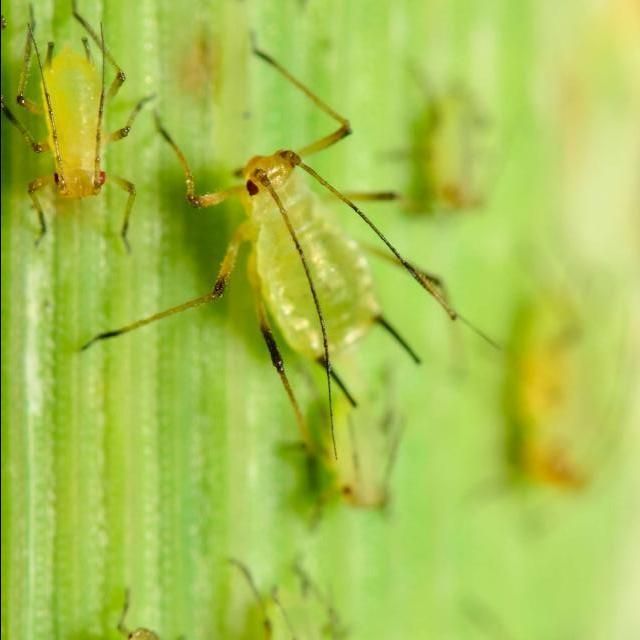aphid: (181, 98, 452, 408), (6, 15, 156, 252)
